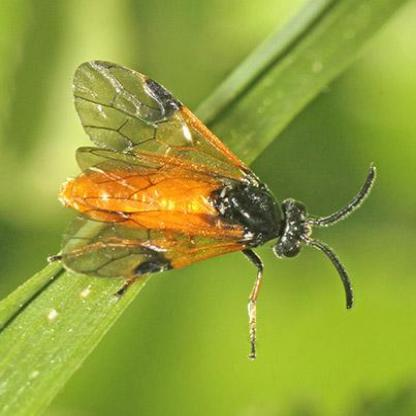sawfly: (48, 62, 376, 364)
